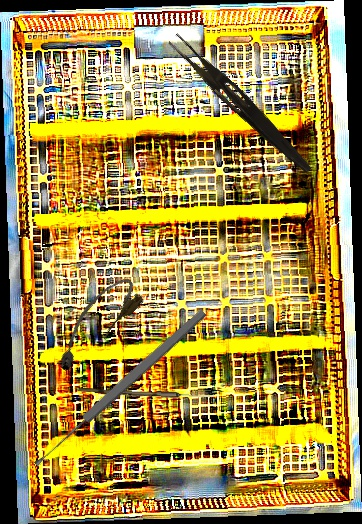Cannula: (43, 270, 148, 378)
Dressing Forceps: (163, 32, 319, 176)
Surgical Spoon: (30, 306, 209, 470), (78, 387, 215, 400)
